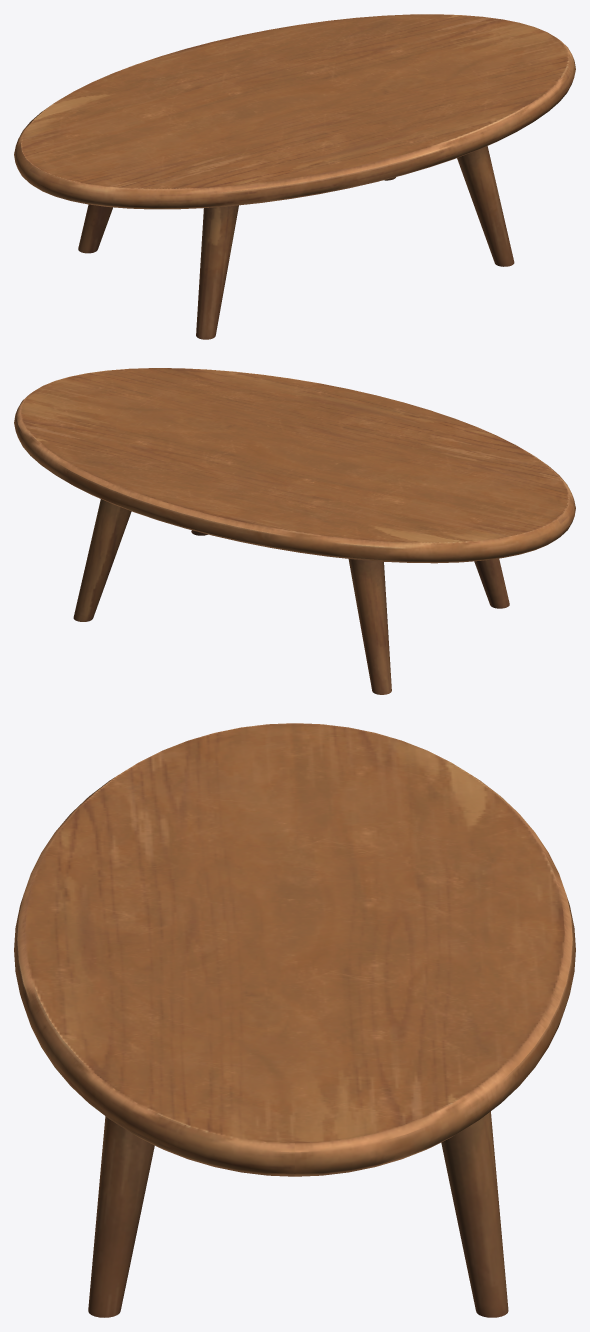
Rendered from SM_SmallTable_01.fbx.
3 renders of one model, top to bottom at view 1: azimuth 30°, elevation 25°; view 2: azimuth 150°, elevation 25°; view 3: azimuth 270°, elevation 25°, orthographic. The views are drawn at different scales.
Parts seen in each view (by area): view 1: SM_SmallTable_01_LOD0; view 2: SM_SmallTable_01_LOD0; view 3: SM_SmallTable_01_LOD0.
Boxes of the visible parts, bbox=[...] form: SM_SmallTable_01_LOD0: bbox=[14, 14, 575, 339]; SM_SmallTable_01_LOD0: bbox=[14, 368, 575, 694]; SM_SmallTable_01_LOD0: bbox=[14, 723, 575, 1317].
Bounding box in the file's own units: 163 × 90.08 × 45.47.
